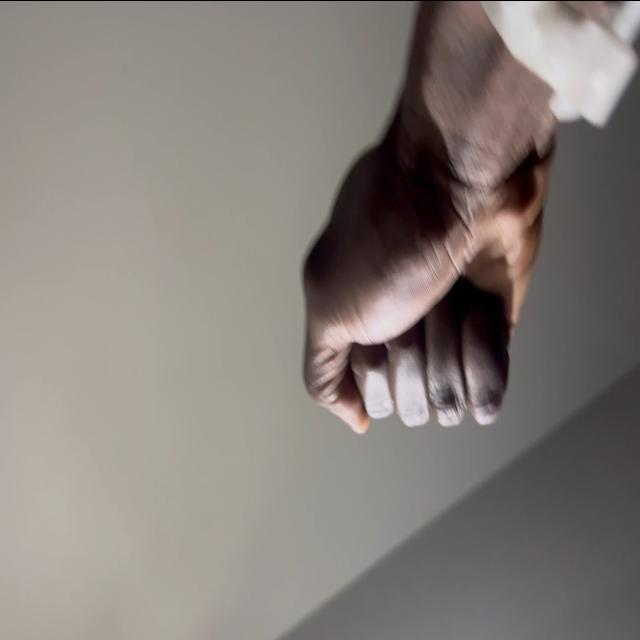Rock: (299, 138, 548, 434)
